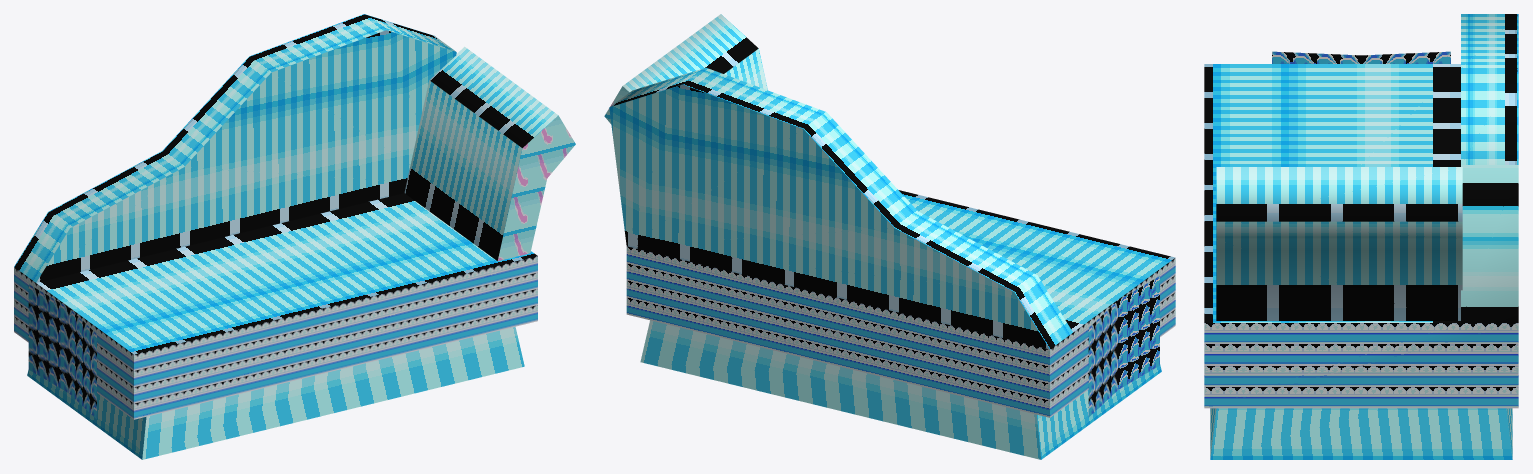
Rendered from 3859kg3_ser40.gltf.
3 renders of one model, left to right at view 1: azimuth 30°, elevation 25°; view 2: azimuth 150°, elevation 25°; view 3: azimuth 270°, elevation 25°, orthographic. The views are drawn at different scales.
Parts seen in each view (by area): view 1: 3859kg3_ser40; view 2: 3859kg3_ser40; view 3: 3859kg3_ser40.
Part boxes in pixels (x1=…): 3859kg3_ser40: x1=14, y1=14, x2=575, y2=459; 3859kg3_ser40: x1=604, y1=14, x2=1175, y2=459; 3859kg3_ser40: x1=1204, y1=14, x2=1518, y2=459.
Size of the model in its own units: 1.92 by 1.11 by 0.8708.
Materials: 4 (4 with a texture image).
